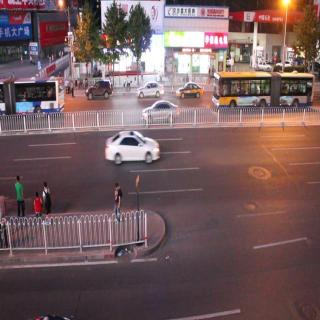BigCar: (213, 68, 314, 110), (0, 78, 64, 113)
Car: (104, 128, 162, 168), (141, 97, 180, 125), (86, 78, 113, 100), (176, 81, 204, 101), (136, 80, 164, 98)
